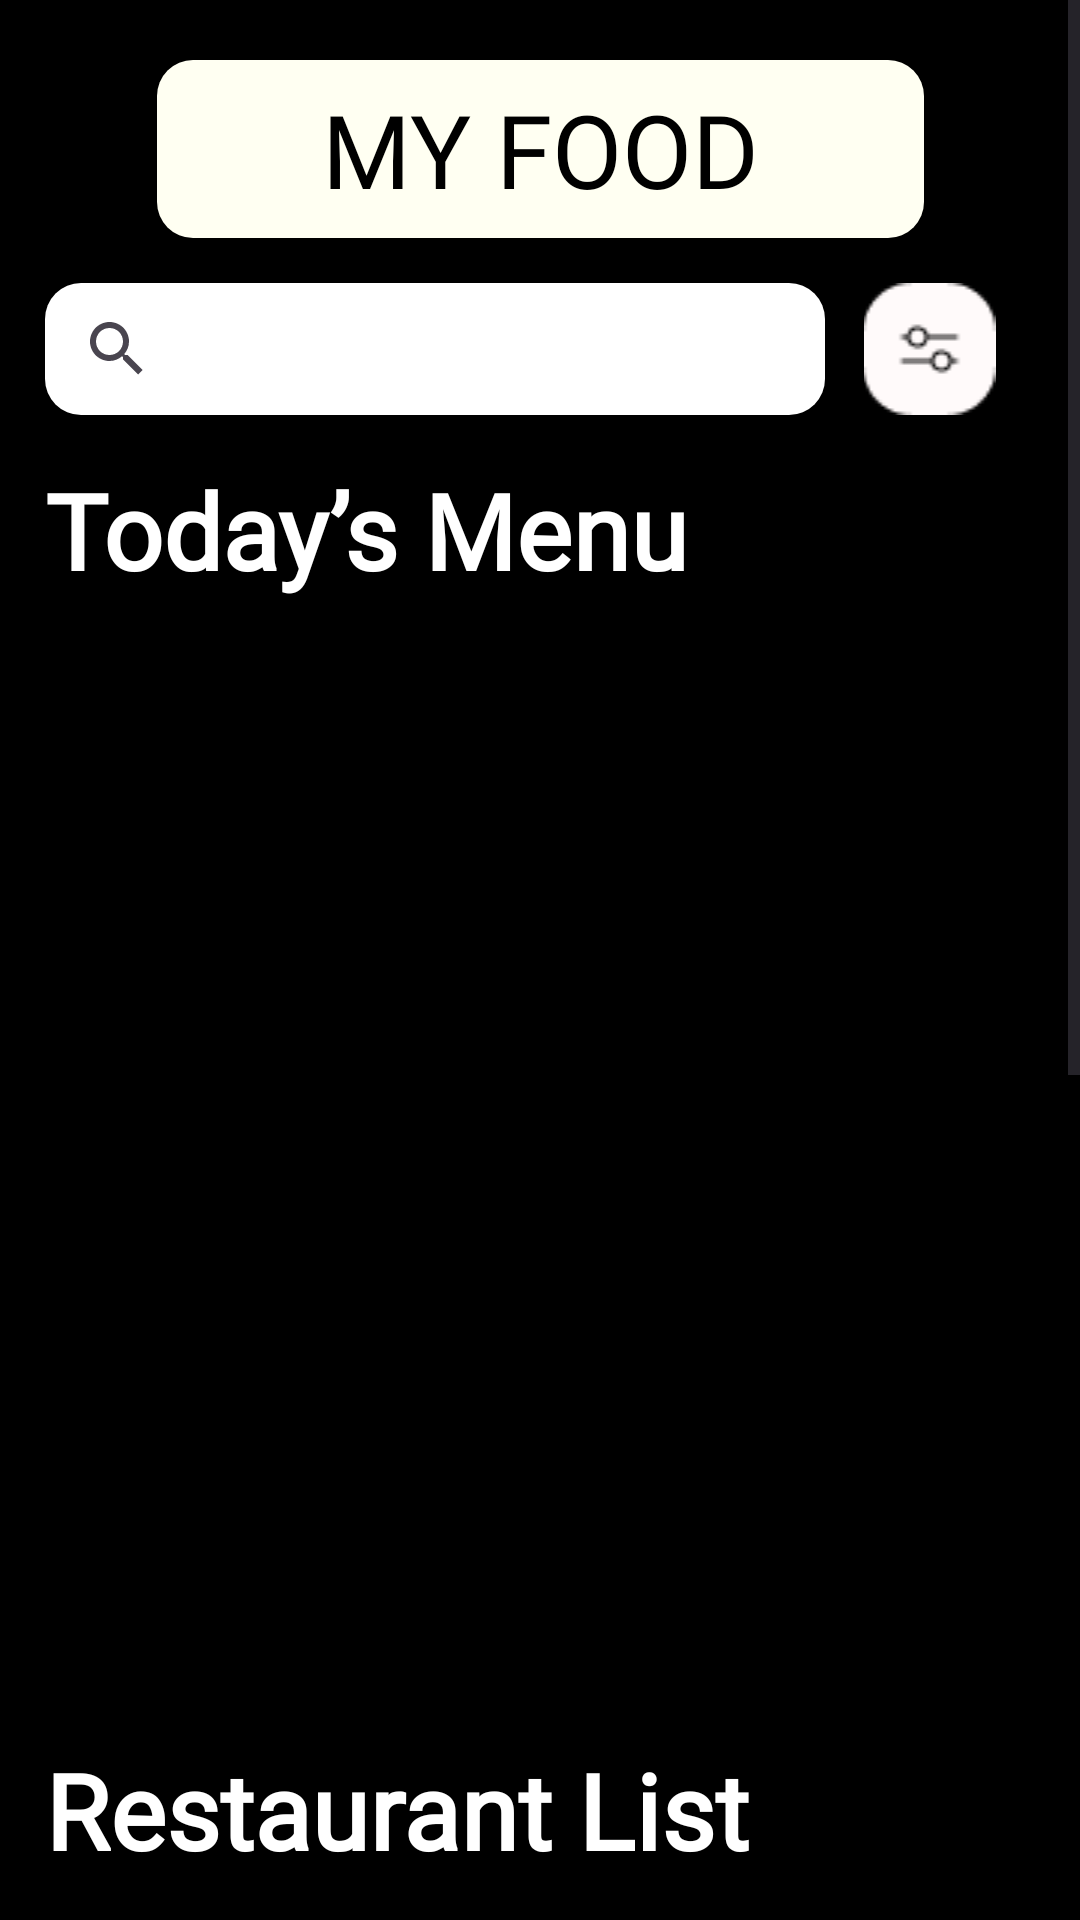

Screen size 1080*1920. Icon name, then its center in pixels as (x=x, y=y):
filter: (x=930, y=349)
